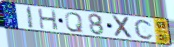8: (88, 13, 105, 36)
C: (133, 18, 155, 41)
H: (36, 8, 60, 31)
I: (26, 6, 35, 30)
Q: (64, 12, 85, 34)
X: (111, 15, 134, 40)
